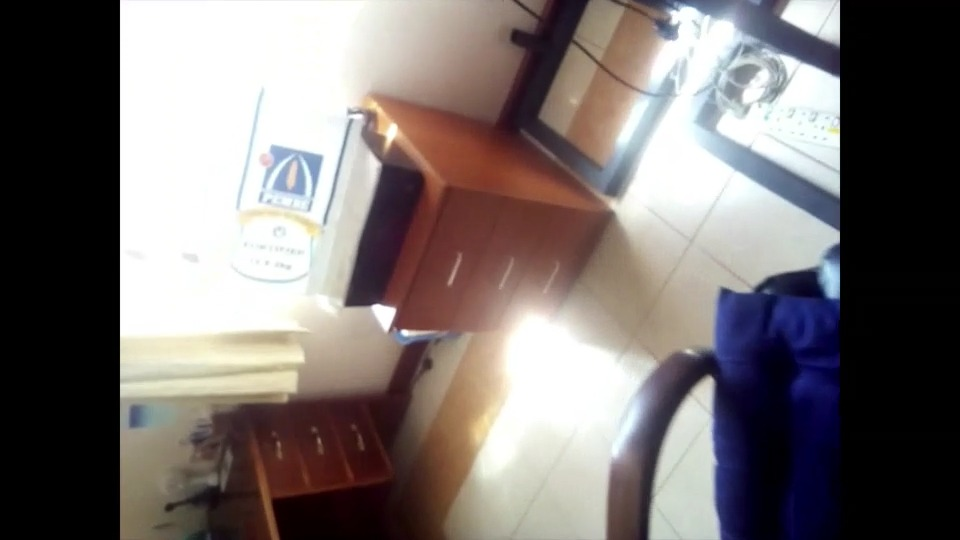wheat_flour_blue_label: (208, 82, 364, 308)
